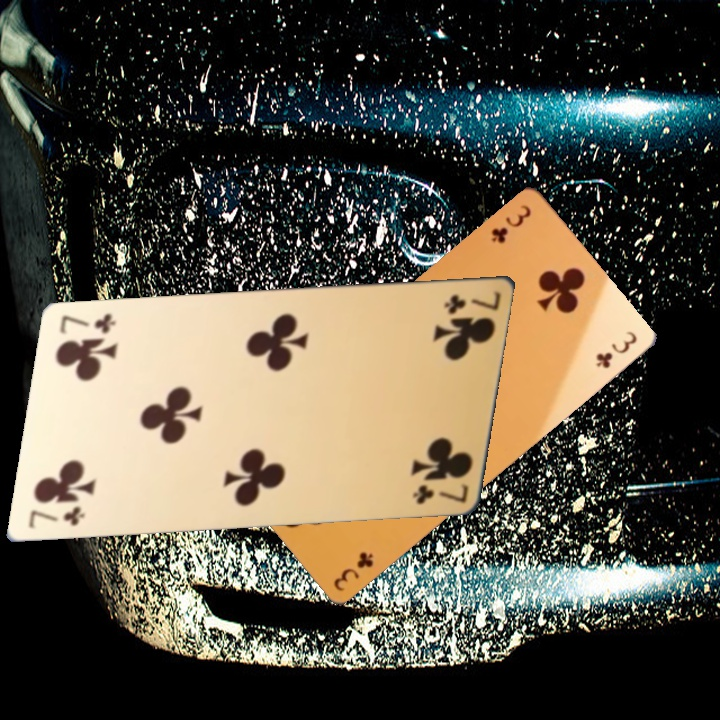3c: (484, 195, 543, 249), (327, 540, 385, 594), (588, 322, 646, 376)
7c: (431, 287, 502, 315), (400, 479, 471, 507), (49, 310, 119, 338), (18, 502, 88, 530)
